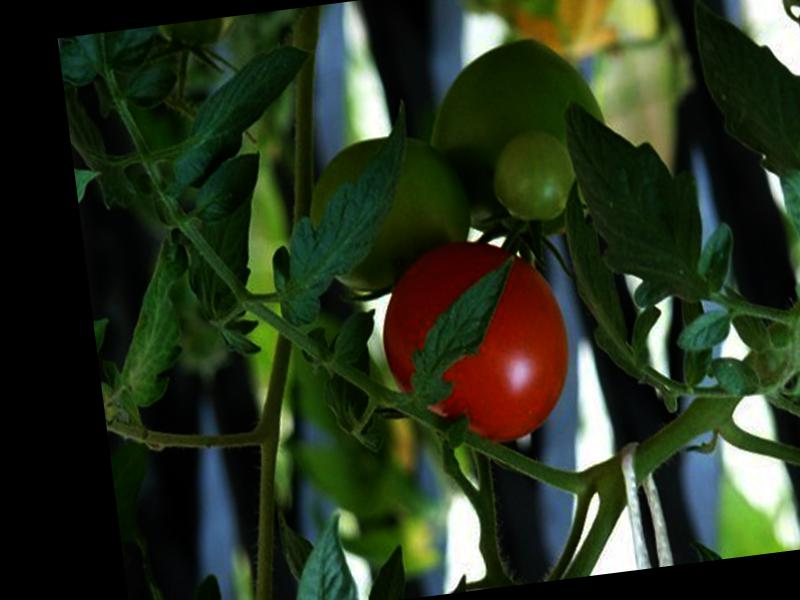Tomato: (373, 233, 579, 456)
